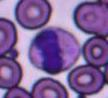N: (29, 27, 80, 73)
